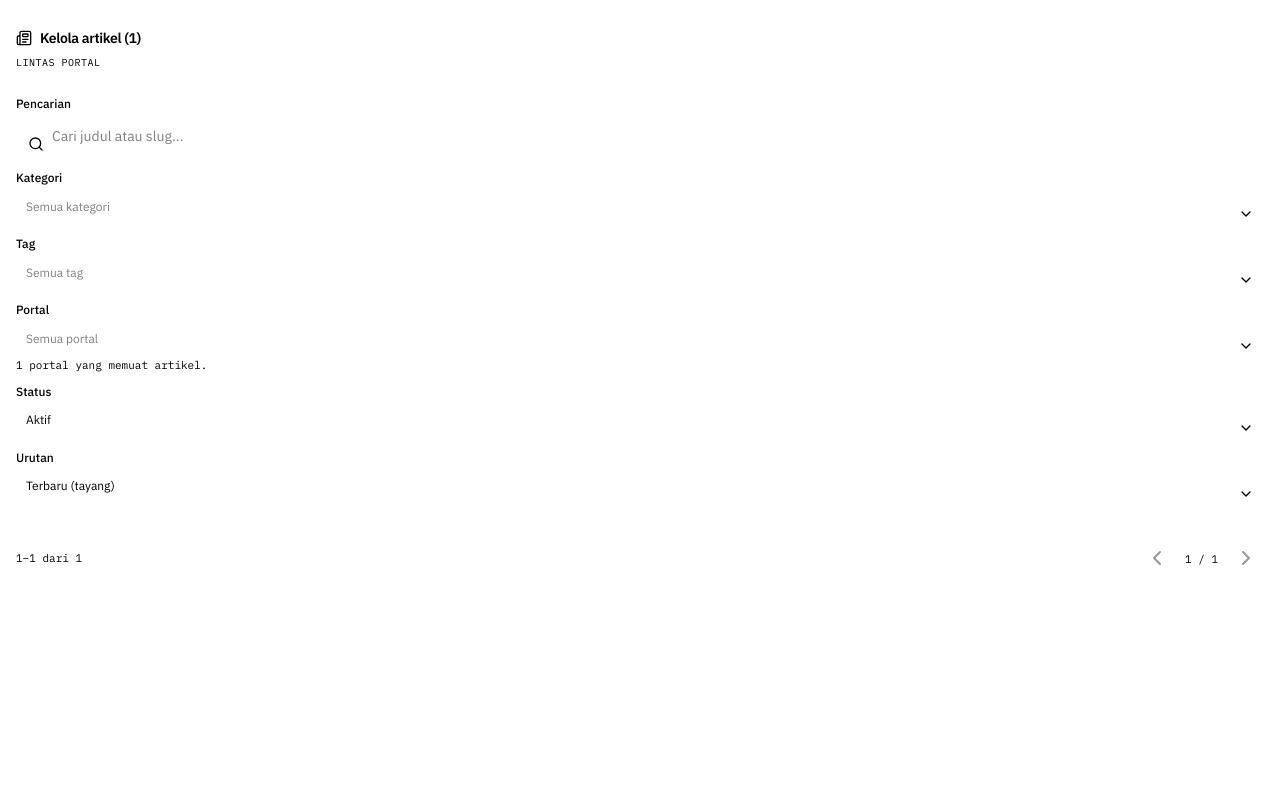
ArticleManager › hanya menghitung dan menyaring portal apex
This screenshot has width=1280, height=800.
Expected: the text "1 portal yang memuat artikel." is shown, [16,358,207,372]
What coordinates should you click on to do the following:
click the dropdown labelled "Portal"
I would click on:
 (640, 338)
Its box is [16,322,1264,354].
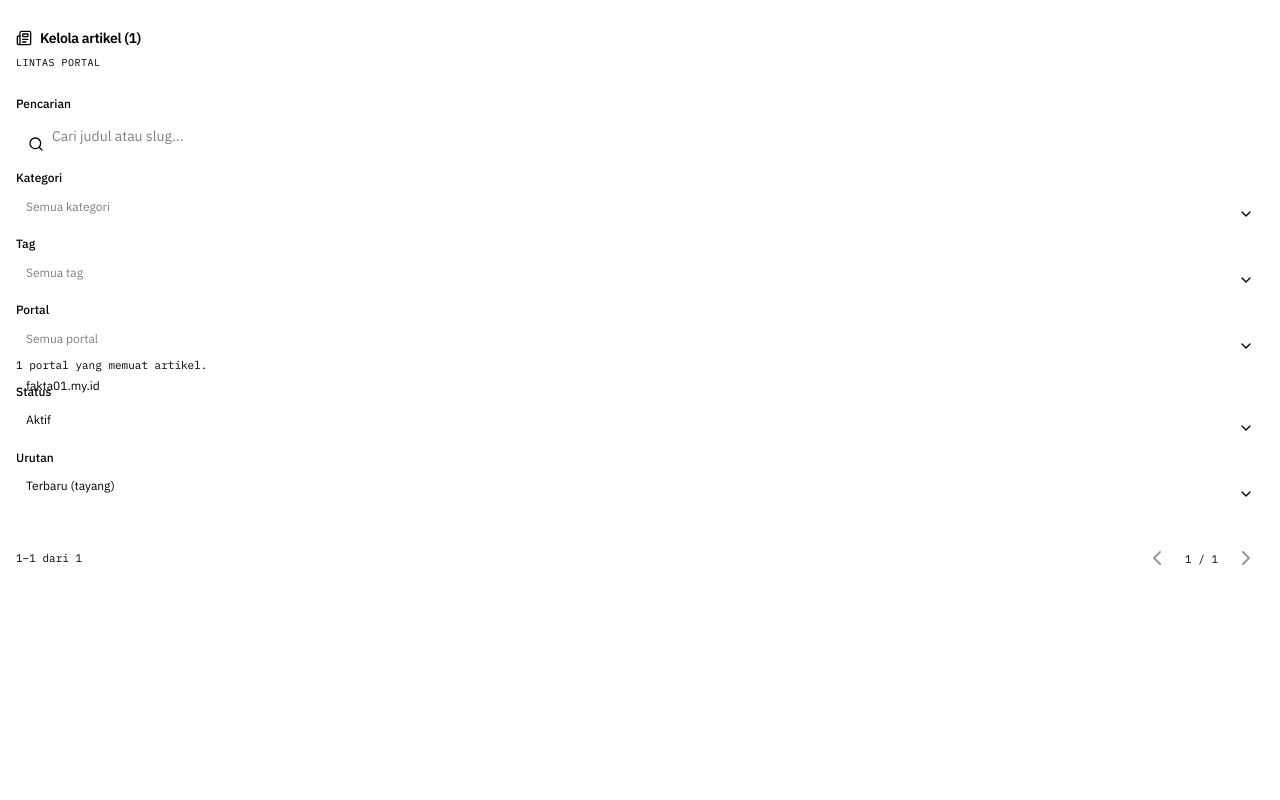
Expected: the options read "fakta01.my.id", in this order, [26,378,100,393]
